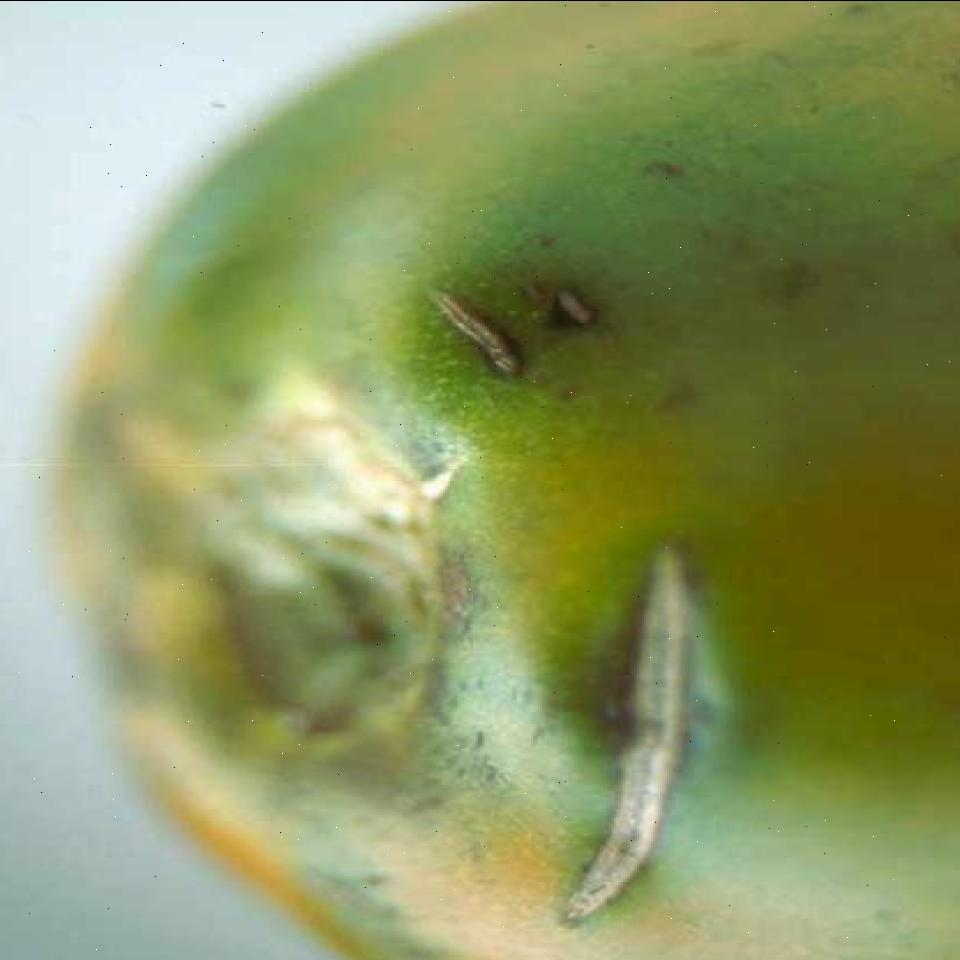Cracking: (549, 520, 736, 932), (392, 283, 552, 382), (548, 254, 610, 338)
